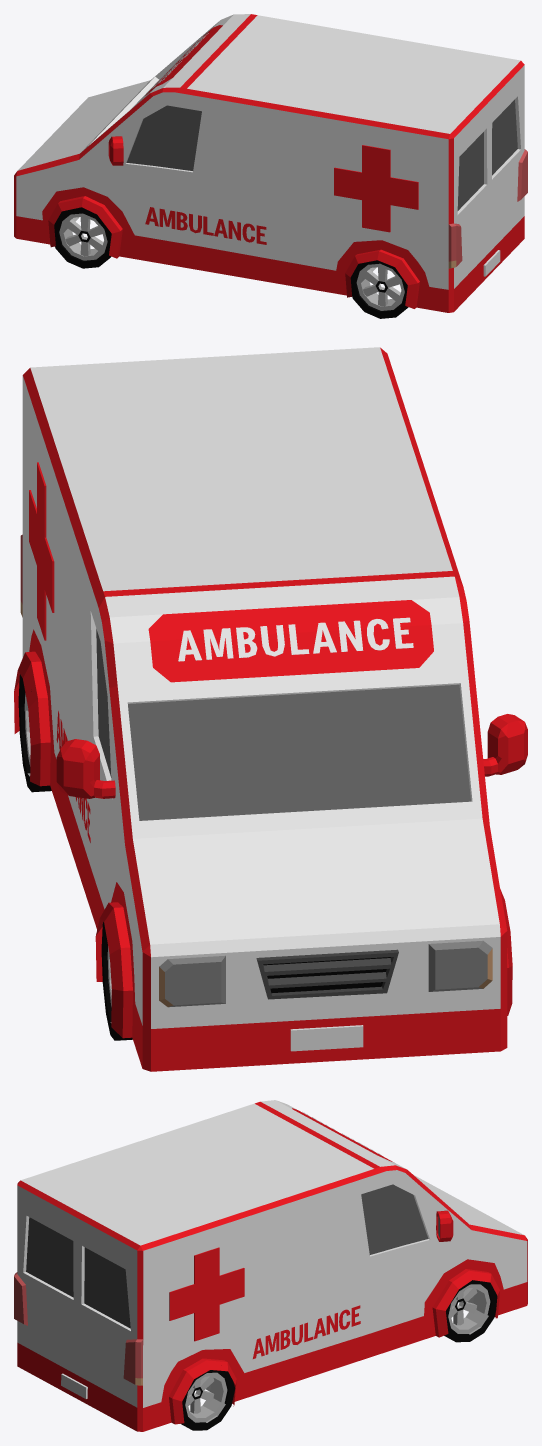
The model's file is Ambulance.fbx.
3 views of the same model, one above another, from view 1: azimuth 30°, elevation 25°; view 2: azimuth 150°, elevation 25°; view 3: azimuth 270°, elevation 25° (orthographic). The views are drawn at different scales.
Parts seen in each view (by area): view 1: Ambulance; view 2: Ambulance; view 3: Ambulance.
Boxes of the visible parts, box(x1,y1,x2,y2) form: Ambulance: box(14, 14, 527, 318); Ambulance: box(14, 347, 527, 1071); Ambulance: box(14, 1100, 527, 1431).
Size of the model in its own units: 664 by 739 by 319.
